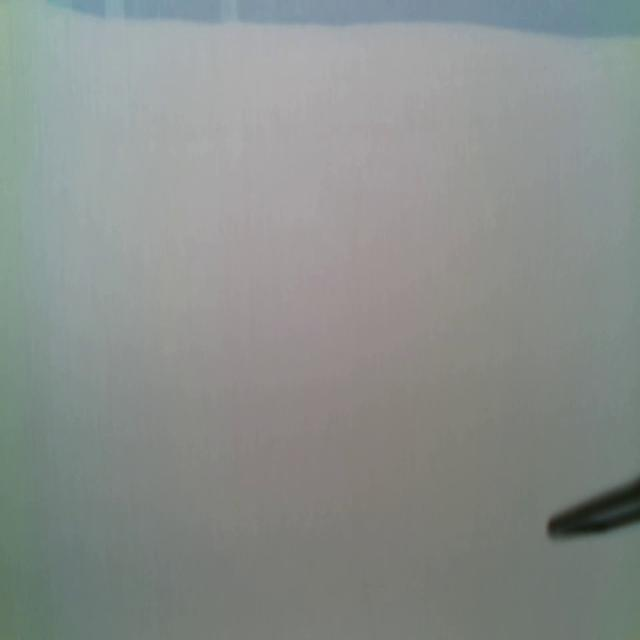color bleeding: (43, 0, 640, 47)
